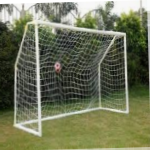goals: (11, 19, 132, 137)
